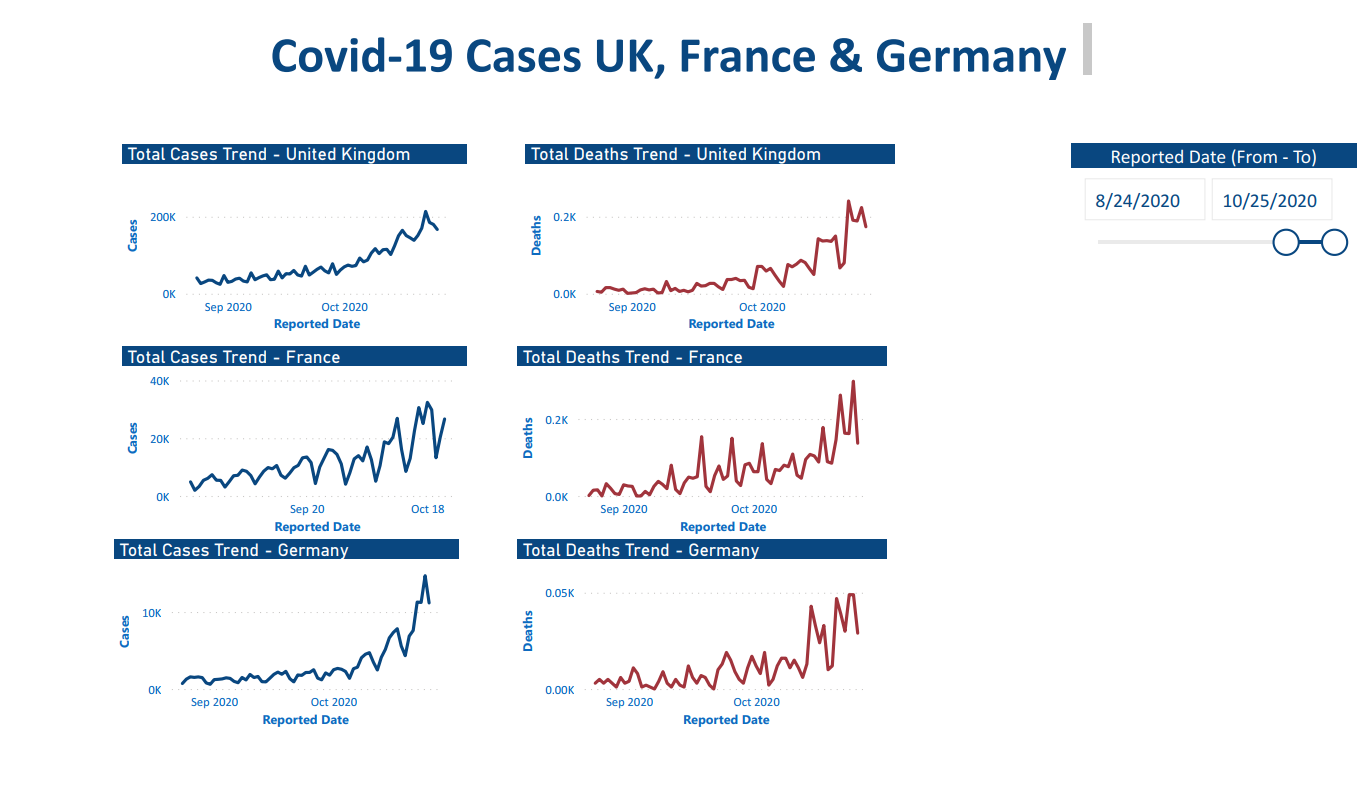

This screenshot's page, from the dashboard's own definition file:
{"tool":"powerbi","page":{"name":"Trends - Country","canvas":[1280,720],"ordinal":1},"visuals":[{"type":"lineChart","title":"Total Cases Trend - United Kingdom","fields":{"Category":["covid_reporting cases_and_deaths.reported_date"],"Y":["Sum(covid_reporting cases_and_deaths.cases_count)"]},"box":[104,120,328,184],"z":0},{"type":"slicer","title":"Reported Date (From - To)","fields":{"Values":["covid_reporting cases_and_deaths.reported_date"]},"box":[1008,120,272,112],"z":1000},{"type":"lineChart","title":"Total Cases Trend - France","fields":{"Category":["covid_reporting cases_and_deaths.reported_date"],"Y":["Sum(covid_reporting cases_and_deaths.cases_count)"]},"box":[104,312,328,184],"z":2000},{"type":"lineChart","title":"Total Cases Trend - Germany","fields":{"Category":["covid_reporting cases_and_deaths.reported_date"],"Y":["Sum(covid_reporting cases_and_deaths.cases_count)"]},"box":[96,496,328,184],"z":3000},{"type":"lineChart","title":"Total Deaths Trend - United Kingdom","fields":{"Category":["covid_reporting cases_and_deaths.reported_date"],"Y":["Sum(covid_reporting cases_and_deaths.deaths_count)"]},"box":[488,120,352,184],"z":4000},{"type":"lineChart","title":"Total Deaths Trend - France","fields":{"Category":["covid_reporting cases_and_deaths.reported_date"],"Y":["Sum(covid_reporting cases_and_deaths.deaths_count)"]},"box":[480,312,352,184],"z":5000},{"type":"lineChart","title":"Total Deaths Trend - Germany","fields":{"Category":["covid_reporting cases_and_deaths.reported_date"],"Y":["Sum(covid_reporting cases_and_deaths.deaths_count)"]},"box":[480,496,352,184],"z":6000},{"type":"textbox","box":[240,0,792,64],"z":7000}]}

Visuals, with their boxes on the page's 1280x720 design canvas (x1, y1, x2, y2). These are canvas units, not pixel positions in the 1372x802 screenshot, which may show the page scaled, cropped or inside an application window:
"Total Cases Trend - United Kingdom" lineChart: BBox(104, 120, 432, 304)
"Reported Date (From - To)" slicer: BBox(1008, 120, 1280, 232)
"Total Cases Trend - France" lineChart: BBox(104, 312, 432, 496)
"Total Cases Trend - Germany" lineChart: BBox(96, 496, 424, 680)
"Total Deaths Trend - United Kingdom" lineChart: BBox(488, 120, 840, 304)
"Total Deaths Trend - France" lineChart: BBox(480, 312, 832, 496)
"Total Deaths Trend - Germany" lineChart: BBox(480, 496, 832, 680)
textbox: BBox(240, 0, 1032, 64)
